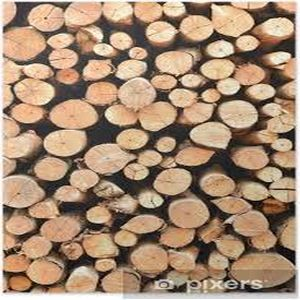log: (227, 250, 295, 292), (43, 98, 100, 128), (85, 140, 136, 172), (210, 3, 254, 40), (2, 26, 46, 62), (216, 97, 261, 131), (185, 120, 233, 151), (40, 127, 86, 159), (166, 197, 210, 230), (11, 77, 57, 107), (3, 176, 46, 208), (37, 213, 82, 243), (117, 77, 158, 109), (138, 102, 179, 133), (198, 169, 236, 202), (131, 245, 170, 277), (156, 224, 200, 252), (153, 48, 194, 78), (152, 167, 193, 197), (98, 266, 143, 293), (24, 257, 65, 286), (177, 12, 214, 44), (211, 193, 254, 220), (28, 3, 65, 33), (64, 1, 103, 29), (85, 231, 120, 261), (31, 155, 71, 181), (80, 80, 121, 105), (229, 211, 270, 236), (174, 143, 215, 168), (120, 213, 166, 235), (9, 102, 46, 128), (102, 102, 139, 128), (18, 232, 52, 260), (61, 268, 99, 293), (165, 250, 203, 275), (112, 56, 148, 82), (3, 132, 34, 162), (115, 126, 150, 152), (258, 16, 294, 41), (83, 56, 115, 84), (238, 179, 270, 207), (75, 23, 102, 55), (178, 101, 217, 123), (68, 168, 102, 193), (102, 1, 134, 27), (200, 56, 237, 78), (232, 148, 269, 170), (27, 197, 61, 220), (215, 235, 245, 261), (234, 63, 266, 87), (268, 147, 300, 171), (144, 20, 176, 43), (46, 48, 82, 68), (81, 203, 111, 227), (45, 29, 76, 51), (6, 215, 38, 236), (55, 185, 85, 207), (57, 239, 82, 265), (248, 230, 280, 250), (168, 88, 197, 110), (20, 63, 55, 81), (231, 34, 261, 55), (134, 1, 163, 22), (122, 161, 151, 182), (3, 251, 29, 274), (204, 39, 237, 57), (54, 66, 83, 86), (114, 226, 139, 249), (149, 71, 177, 91), (138, 146, 163, 168), (215, 76, 241, 96), (178, 71, 206, 89), (109, 31, 133, 51), (153, 135, 178, 154), (208, 252, 231, 271), (266, 50, 290, 68), (91, 42, 111, 62), (94, 258, 118, 274), (201, 87, 221, 106), (3, 119, 21, 140), (258, 167, 282, 182), (260, 104, 283, 119), (128, 44, 149, 60), (268, 136, 292, 150), (164, 3, 185, 18)
